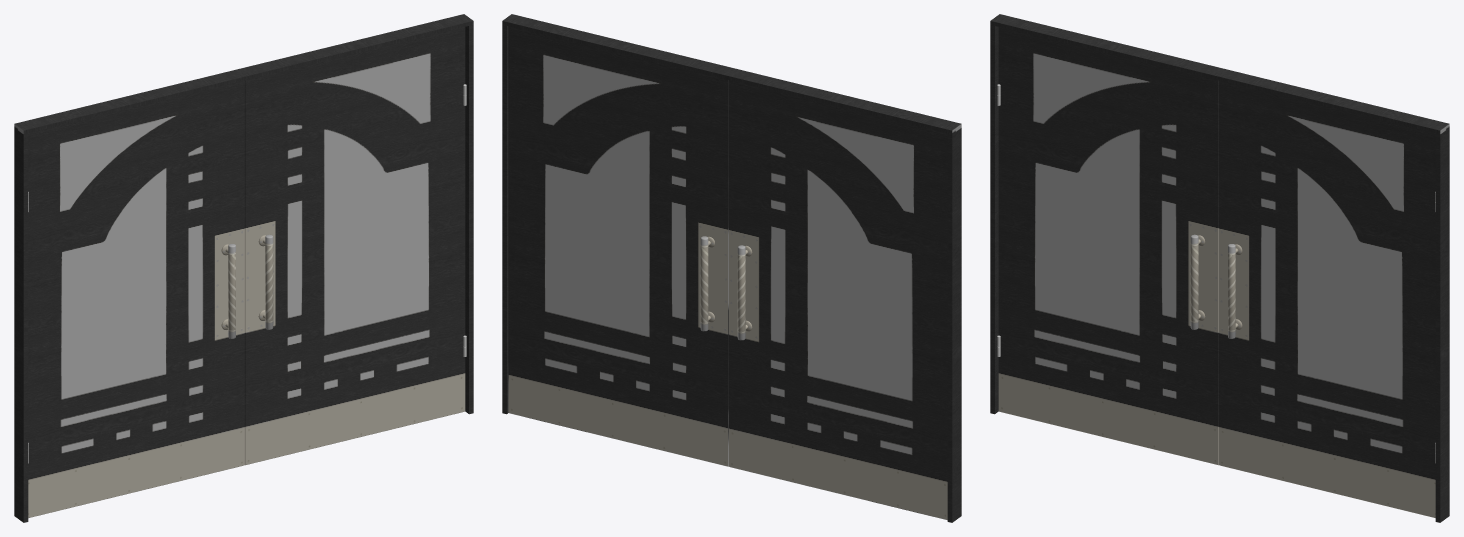
File: DoorDouble01.FBX
3 views of the same model, side by side, from view 1: azimuth 30°, elevation 25°; view 2: azimuth 150°, elevation 25°; view 3: azimuth 330°, elevation 25° (orthographic).
Parts seen in each view (by area): view 1: DoorR, DoorL, Frame; view 2: DoorR, DoorL, Frame; view 3: DoorL, DoorR, Frame.
Part boxes in pixels (left/top/right/bottom): DoorR: left=245, top=27, right=466, bottom=465; DoorL: left=28, top=80, right=244, bottom=517; Frame: left=14, top=14, right=473, bottom=522; DoorR: left=508, top=26, right=728, bottom=466; DoorL: left=729, top=80, right=947, bottom=520; Frame: left=502, top=14, right=961, bottom=522; DoorL: left=997, top=27, right=1218, bottom=465; DoorR: left=1219, top=80, right=1435, bottom=517; Frame: left=990, top=14, right=1449, bottom=522.
Bounding box in the file's own units: 300 × 250 × 22.54.
